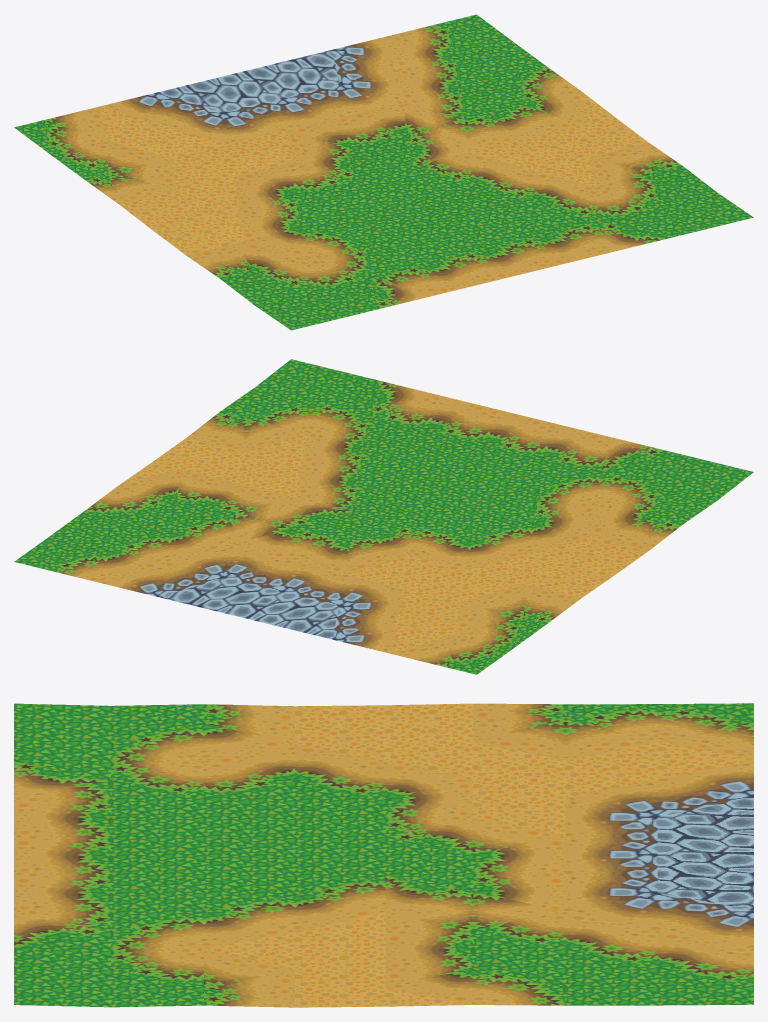
File: c_grd_f_g_1.001.glb
3 views of the same model, one above another, from view 1: azimuth 30°, elevation 25°; view 2: azimuth 150°, elevation 25°; view 3: azimuth 270°, elevation 25° (orthographic). The views are drawn at different scales.
Visible parts, largest first — view 1: c_grd_f_g_1.001; view 2: c_grd_f_g_1.001; view 3: c_grd_f_g_1.001.
Part boxes in pixels (x1=…): c_grd_f_g_1.001: x1=14, y1=14, x2=753, y2=330; c_grd_f_g_1.001: x1=14, y1=359, x2=753, y2=674; c_grd_f_g_1.001: x1=14, y1=703, x2=753, y2=1007.
Bounding box in the file's own units: 32 × 0.1406 × 33.2.
5 materials, 5 textured.
